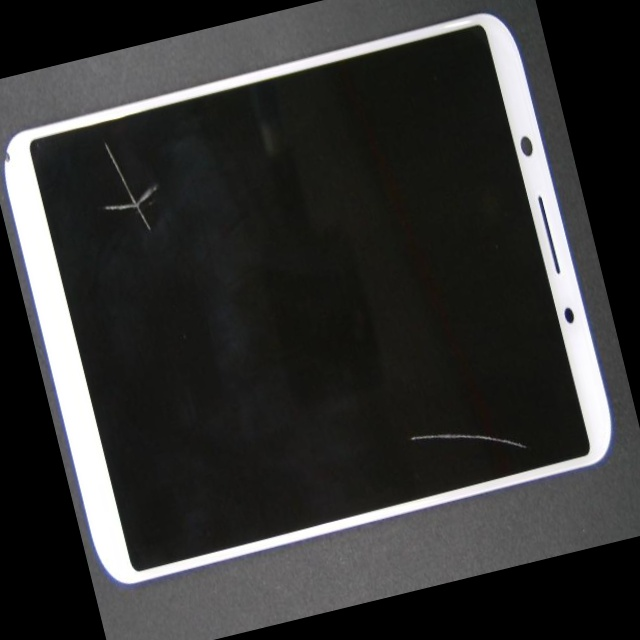scratch: (325, 199, 640, 593), (46, 112, 228, 335)
